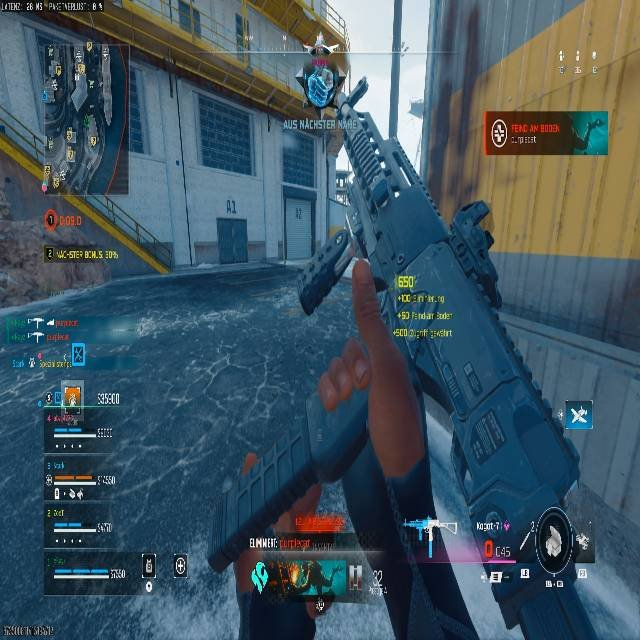head: (452, 199, 495, 253)
player: (265, 176, 585, 637)
